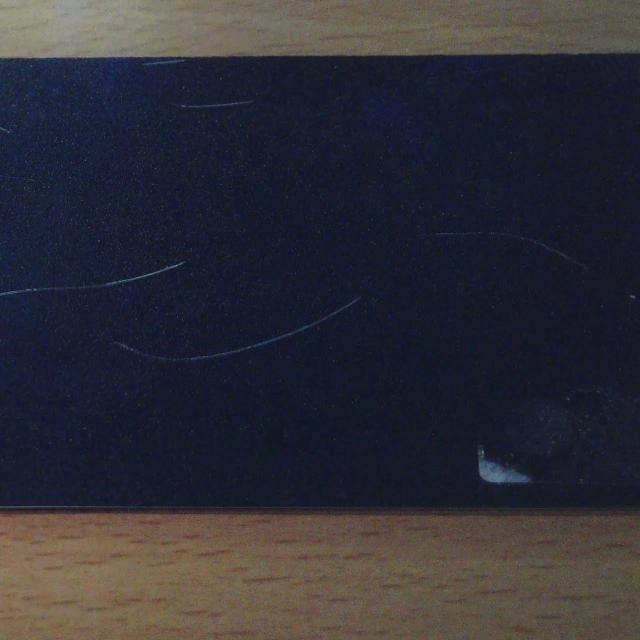defect: (110, 296, 362, 364), (435, 226, 589, 271), (1, 260, 185, 294), (183, 94, 255, 113), (141, 57, 188, 70)
